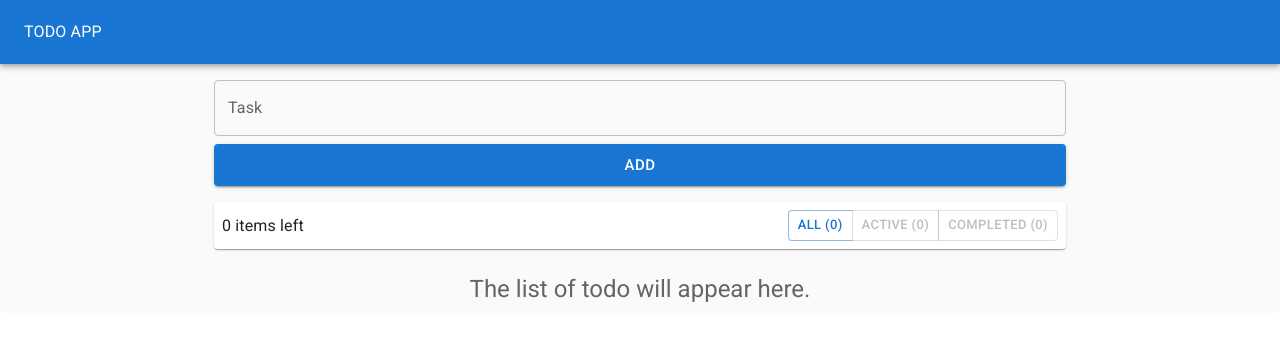
Test: TODO test › should remove a todo
The image size is (1280, 363).
Type "Make a sandwich" into the field labelled "Task" at (640, 108), box [214,80,1066,136]
Then press Enter
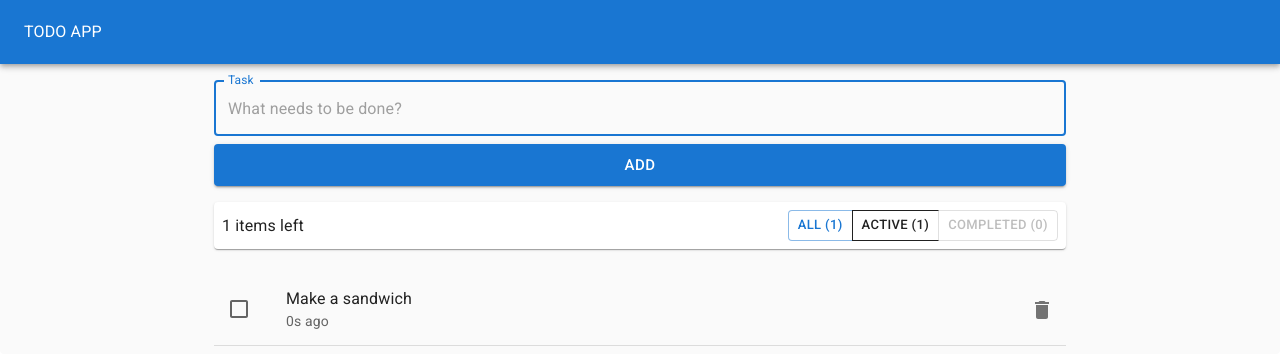
Click the button named "Delete todo" at (1042, 310), box [1022,290,1062,330]
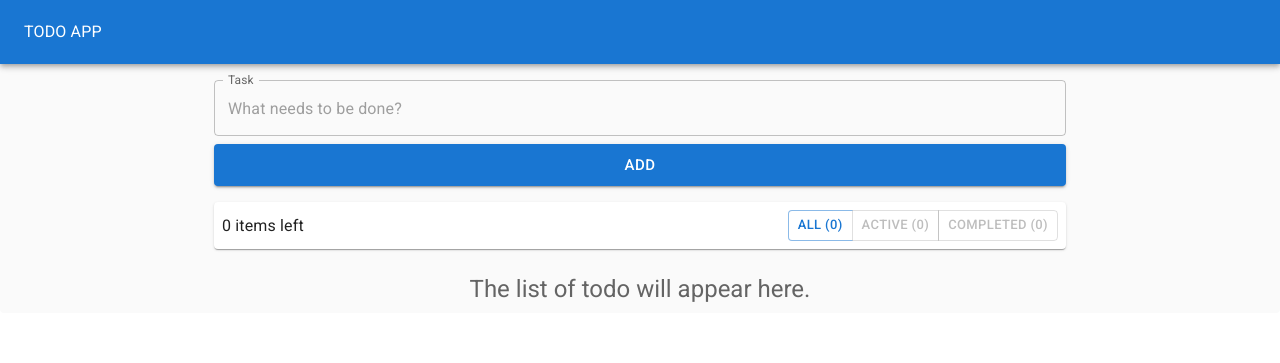
Result: the list item reads "The list of todo will appear here." at [470,275,811,303]
